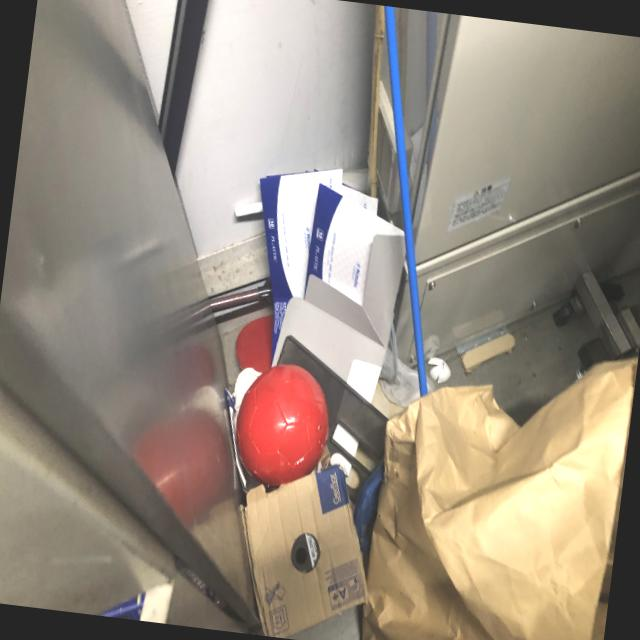red_ball: (228, 357, 336, 489)
